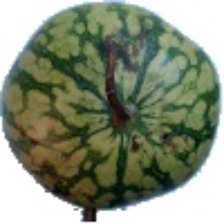watermelon: (6, 29, 192, 224)
